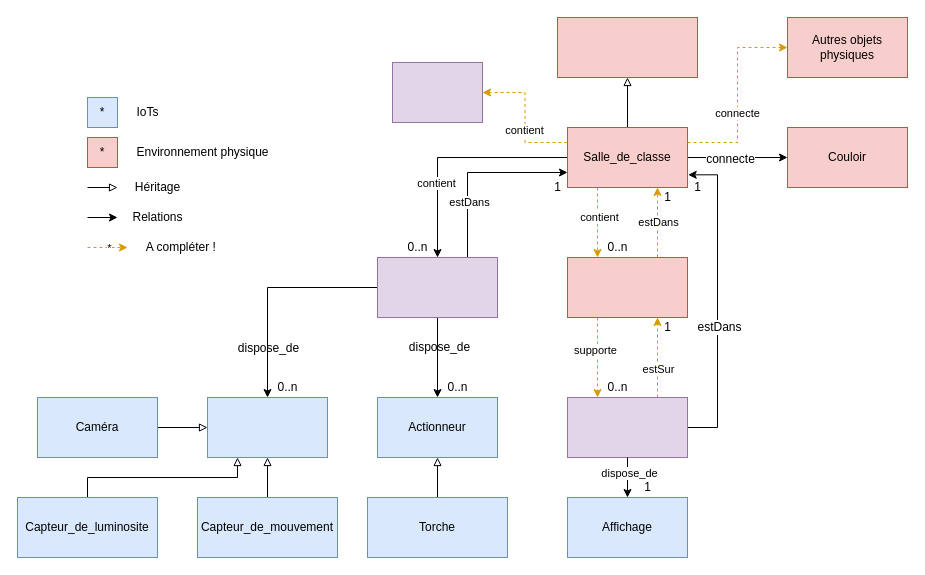
This 925x575 diagram has some shape labels left out. The centre of each missing label's shape, as x and y in pixels:
"Autres objets" goes at (x=437, y=92).
"Bureau" goes at (x=627, y=287).
"Capteur" goes at (x=267, y=427).
"Moniteur (PC)" goes at (x=627, y=427).
"Piece" goes at (x=627, y=47).
"Telephone" goes at (x=437, y=287).
